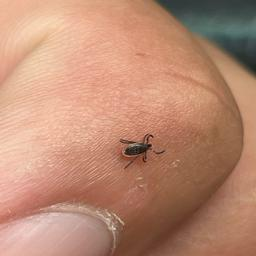Ixodes scapularis: (118, 135, 165, 170)
